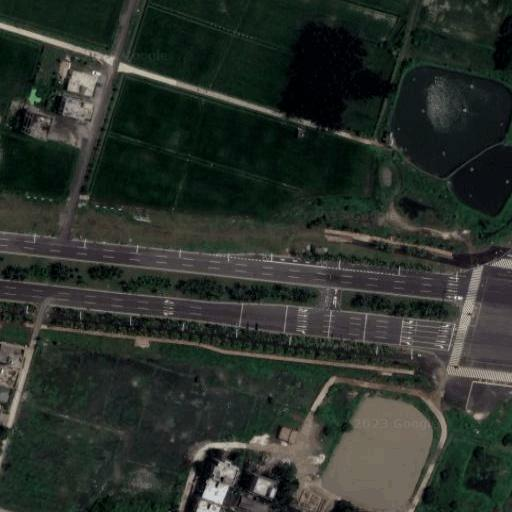building: (65, 69, 95, 96), (57, 95, 89, 120), (197, 477, 225, 504), (209, 455, 236, 481), (21, 110, 45, 138), (248, 472, 270, 494), (239, 497, 267, 512), (0, 342, 19, 363), (191, 498, 217, 512), (279, 428, 297, 444), (0, 365, 13, 384)
